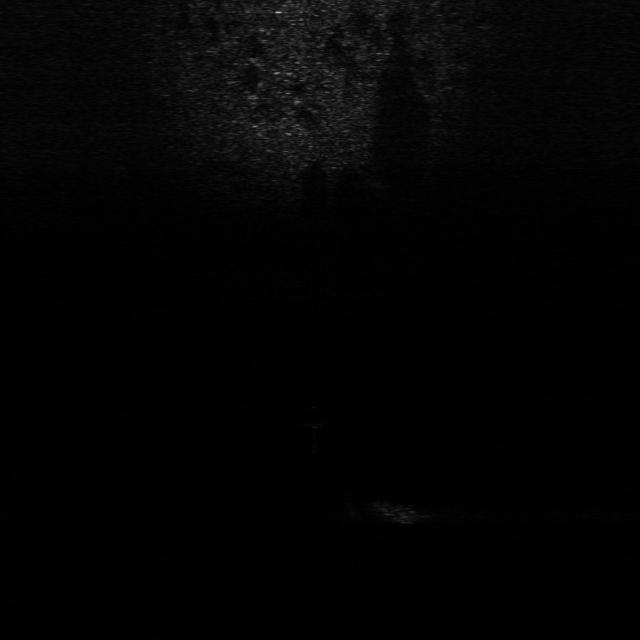ball: (298, 402, 332, 427)
metal bucket: (362, 495, 443, 528)
